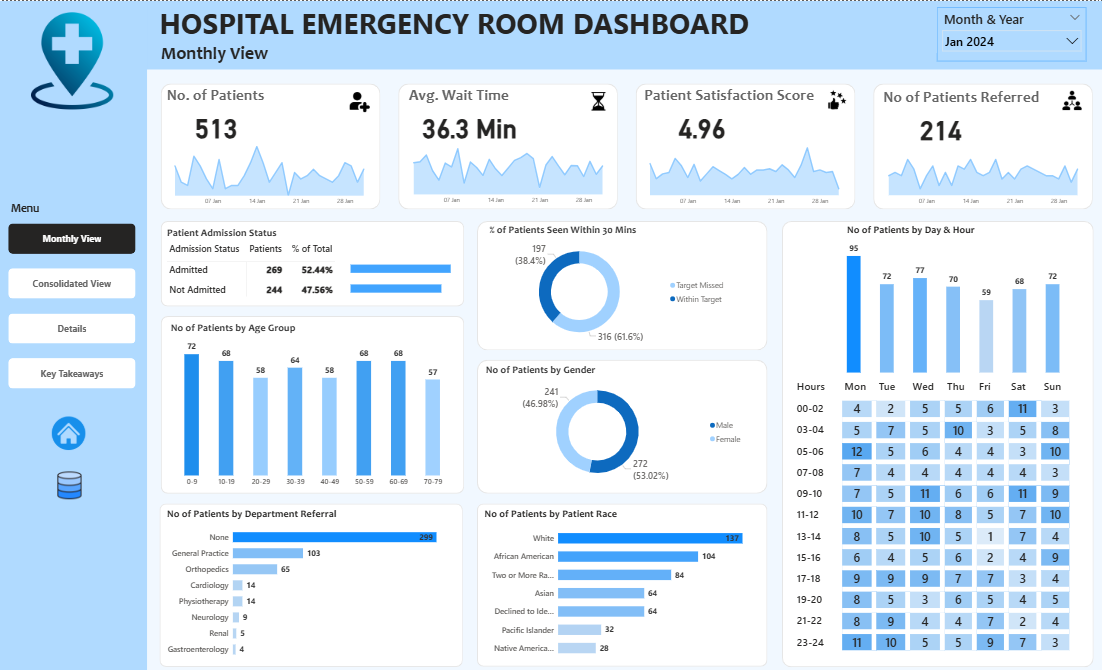

This screenshot's page, from the dashboard's own definition file:
{"tool":"powerbi","page":{"name":"Monthly View","canvas":[2300,1400],"ordinal":0},"visuals":[{"type":"shape","box":[338.5,171.3,455.5,261.2],"z":0},{"type":"shape","box":[1324.7,171.3,455.5,261.2],"z":1000},{"type":"shape","box":[0,0,311.3,1399.9],"z":2000},{"type":"shape","box":[831.6,171.3,455.5,261.2],"z":3000},{"type":"card","fields":{"Values":["Hospital ER_Hospital ER.No of Patients"]},"box":[374,225.7,160.9,66.9],"z":4000},{"type":"card","fields":{"Values":["Hospital ER_Hospital ER.Avg Wait Time"]},"box":[869.2,225.7,223.6,66.9],"z":5000},{"type":"card","fields":{"Values":["Avg(Hospital ER_Hospital ER.Patient Satisfaction Score)"]},"box":[1381.4,225.6,160.9,66.9],"z":6000},{"type":"shape","box":[1817.8,171.3,455.5,261.2],"z":7000},{"type":"card","fields":{"Values":["Hospital ER_Hospital ER.Measure"]},"box":[1876.7,227.6,160.9,66.9],"z":8000},{"type":"shape","box":[311.3,0,1989.1,142.1],"z":9000},{"type":"slicer","fields":{"Values":["Calendar Table.Month & Year"]},"box":[1950.8,12.2,309.8,112.1],"z":10000},{"type":"textbox","box":[339.2,171.3,227.8,56.5],"z":11000},{"type":"textbox","box":[841.3,171.3,231.1,56.5],"z":12000},{"type":"textbox","box":[1331.2,172,377.5,55.8],"z":13000},{"type":"textbox","box":[1828.2,173.4,344.8,56.4],"z":14000},{"type":"areaChart","fields":{"Category":["Calendar Table.Date.Variation.Date Hierarchy.Year","Calendar Table.Date.Variation.Date Hierarchy.Quarter","Calendar Table.Date.Variation.Date Hierarchy.Month","Calendar Table.Date.Variation.Date Hierarchy.Day"],"Y":["Hospital ER_Hospital ER.No of Patients"]},"box":[348.4,288.1,435.5,145.2],"z":15000},{"type":"areaChart","fields":{"Category":["Calendar Table.Date.Variation.Date Hierarchy.Year","Calendar Table.Date.Variation.Date Hierarchy.Quarter","Calendar Table.Date.Variation.Date Hierarchy.Month","Calendar Table.Date.Variation.Date Hierarchy.Day"],"Y":["Avg(Hospital ER_Hospital ER.Patient Waittime)"]},"box":[842.1,285.9,435.5,145.2],"z":16000},{"type":"areaChart","fields":{"Category":["Calendar Table.Date.Variation.Date Hierarchy.Year","Calendar Table.Date.Variation.Date Hierarchy.Quarter","Calendar Table.Date.Variation.Date Hierarchy.Month","Calendar Table.Date.Variation.Date Hierarchy.Day"],"Y":["Avg(Hospital ER_Hospital ER.Patient Satisfaction Score)"]},"box":[1333.4,290.4,435.5,142.9],"z":17000},{"type":"areaChart","fields":{"Category":["Calendar Table.Date.Variation.Date Hierarchy.Year","Calendar Table.Date.Variation.Date Hierarchy.Quarter","Calendar Table.Date.Variation.Date Hierarchy.Month","Calendar Table.Date.Variation.Date Hierarchy.Day"],"Y":["Hospital ER_Hospital ER.Measure"]},"box":[1827.1,288.1,435.5,145.2],"z":18000},{"type":"textbox","box":[331.7,0,1281,88.9],"z":19000},{"type":"image","box":[46.9,17.9,218.9,212.2],"z":20000},{"type":"image","box":[1222.3,183.9,52.2,48.1],"z":21000},{"type":"image","box":[724.8,183.1,52.8,51.2],"z":22000},{"type":"image","box":[2198,181.8,62.7,50],"z":23000},{"type":"image","box":[1713.3,179.7,58.5,52.2],"z":24000},{"type":"shape","box":[338.9,455,629.1,177.3],"z":25000},{"type":"shape","box":[994.7,455,602.5,268.3],"z":26000},{"type":"shape","box":[1626.9,455,646.4,925.6],"z":27000},{"type":"shape","box":[996.2,743.7,602.5,277.7],"z":28000},{"type":"donutChart","title":"% of Patients Seen Within 30 Mins","fields":{"Y":["Hospital ER_Hospital ER.No of Patients"],"Category":["Hospital ER_Hospital ER.Waittime Status"]},"box":[1016.6,461,504.4,257.6],"z":29000},{"type":"donutChart","title":"No of Patients by Gender","fields":{"Y":["Hospital ER_Hospital ER.No of Patients"],"Category":["Hospital ER_Hospital ER.Full Gender"]},"box":[1007.2,753.1,547.5,257.3],"z":30000},{"type":"shape","box":[338.9,652.7,629.1,368.7],"z":31000},{"type":"pivotTable","title":"Patient Admission Status","fields":{"Rows":["Hospital ER_Hospital ER.Admission Status"],"Values":["Hospital ER_Hospital ER.No of Patients1","Hospital ER_Hospital ER.No of Patients"]},"box":[347.9,465.5,610,158.3],"z":32000},{"type":"barChart","fields":{"Category":["Hospital ER_Hospital ER.Admission Status"],"Y":["Hospital ER_Hospital ER.No of Patients"]},"box":[729.5,514.6,241.6,120.8],"z":33000},{"type":"clusteredColumnChart","fields":{"Category":["Hospital ER_Hospital ER.Age Group"],"Y":["Hospital ER_Hospital ER.No of Patients"]},"box":[354.6,662.7,599.3,354.6],"z":34000},{"type":"shape","box":[337.3,1041.7,629.1,338.9],"z":35000},{"type":"clusteredBarChart","fields":{"Category":["Hospital ER_Hospital ER.Department Referral"],"Y":["Hospital ER_Hospital ER.No of Patients"]},"box":[348.3,1049.6,602.5,324.8],"z":36000},{"type":"shape","box":[996.5,1043,602.2,338.4],"z":37000},{"type":"clusteredBarChart","fields":{"Y":["Hospital ER_Hospital ER.No of Patients"],"Category":["Hospital ER_Hospital ER.Patient Race"]},"box":[1005.8,1049.2,578.9,324.4],"z":38000},{"type":"pivotTable","fields":{"Columns":["Calendar Table.Day Name"],"Rows":["Hospital ER_Hospital ER.Waittime Interval"],"Values":["Hospital ER_Hospital ER.No of Patients"]},"box":[1649.4,776.5,606.9,583.6],"z":39000},{"type":"clusteredColumnChart","title":"No of Patients by Day & Hour","fields":{"Category":["Calendar Table.Day Name"],"Y":["Hospital ER_Hospital ER.No of Patients"]},"box":[1758.7,461.3,453.4,315.3],"z":40000},{"type":"textbox","box":[333.7,79.2,411.3,59],"z":41000},{"type":"pageNavigator","box":[24.2,462.3,264.1,343.1],"z":42000},{"type":"textbox","box":[24.2,409.1,99.9,48.3],"z":43000},{"type":"image","box":[116.7,967,67.4,75.2],"z":47001},{"type":"image","box":[110.1,854.1,79.5,87.7],"z":47002}]}

Visuals, with their boxes in screenshot pixels (x1, y1, x2, y2), scaled from the page's 2300x1400 canvas onto the 1102x670 screenshot:
shape: <bbox>162, 82, 380, 207</bbox>
shape: <bbox>635, 82, 853, 207</bbox>
shape: <bbox>0, 0, 149, 669</bbox>
shape: <bbox>398, 82, 617, 207</bbox>
card - Hospital ER_Hospital ER.No of Patients: <bbox>179, 108, 256, 140</bbox>
card - Hospital ER_Hospital ER.Avg Wait Time: <bbox>416, 108, 524, 140</bbox>
card - Avg(Hospital ER_Hospital ER.Patient Satisfaction Score): <bbox>662, 108, 739, 140</bbox>
shape: <bbox>871, 82, 1089, 207</bbox>
card - Hospital ER_Hospital ER.Measure: <bbox>899, 109, 976, 141</bbox>
shape: <bbox>149, 0, 1101, 68</bbox>
slicer - Calendar Table.Month & Year: <bbox>935, 6, 1083, 59</bbox>
textbox: <bbox>163, 82, 272, 109</bbox>
textbox: <bbox>403, 82, 514, 109</bbox>
textbox: <bbox>638, 82, 819, 109</bbox>
textbox: <bbox>876, 83, 1041, 110</bbox>
areaChart - Calendar Table.Date.Variation.Date Hierarchy.Year x Calendar Table.Date.Variation.Date Hierarchy.Quarter: <bbox>167, 138, 376, 207</bbox>
areaChart - Calendar Table.Date.Variation.Date Hierarchy.Year x Calendar Table.Date.Variation.Date Hierarchy.Quarter: <bbox>403, 137, 612, 206</bbox>
areaChart - Calendar Table.Date.Variation.Date Hierarchy.Year x Calendar Table.Date.Variation.Date Hierarchy.Quarter: <bbox>639, 139, 848, 207</bbox>
areaChart - Calendar Table.Date.Variation.Date Hierarchy.Year x Calendar Table.Date.Variation.Date Hierarchy.Quarter: <bbox>875, 138, 1084, 207</bbox>
textbox: <bbox>159, 0, 773, 43</bbox>
image: <bbox>22, 9, 127, 110</bbox>
image: <bbox>586, 88, 611, 111</bbox>
image: <bbox>347, 88, 373, 112</bbox>
image: <bbox>1053, 87, 1083, 111</bbox>
image: <bbox>821, 86, 849, 111</bbox>
shape: <bbox>162, 218, 464, 303</bbox>
shape: <bbox>477, 218, 765, 346</bbox>
shape: <bbox>779, 218, 1089, 661</bbox>
shape: <bbox>477, 356, 766, 489</bbox>
"% of Patients Seen Within 30 Mins" donutChart: <bbox>487, 221, 729, 344</bbox>
"No of Patients by Gender" donutChart: <bbox>483, 360, 745, 484</bbox>
shape: <bbox>162, 312, 464, 489</bbox>
"Patient Admission Status" pivotTable: <bbox>167, 223, 459, 299</bbox>
barChart - Hospital ER_Hospital ER.Admission Status x Hospital ER_Hospital ER.No of Patients: <bbox>350, 246, 465, 304</bbox>
clusteredColumnChart - Hospital ER_Hospital ER.Age Group x Hospital ER_Hospital ER.No of Patients: <bbox>170, 317, 457, 487</bbox>
shape: <bbox>162, 499, 463, 661</bbox>
clusteredBarChart - Hospital ER_Hospital ER.Department Referral x Hospital ER_Hospital ER.No of Patients: <bbox>167, 502, 456, 658</bbox>
shape: <bbox>477, 499, 766, 661</bbox>
clusteredBarChart - Hospital ER_Hospital ER.No of Patients x Hospital ER_Hospital ER.Patient Race: <bbox>482, 502, 759, 657</bbox>
pivotTable - Calendar Table.Day Name x Hospital ER_Hospital ER.Waittime Interval: <bbox>790, 372, 1081, 651</bbox>
"No of Patients by Day & Hour" clusteredColumnChart: <bbox>843, 221, 1060, 372</bbox>
textbox: <bbox>160, 38, 357, 66</bbox>
pageNavigator: <bbox>12, 221, 138, 385</bbox>
textbox: <bbox>12, 196, 59, 219</bbox>
image: <bbox>56, 463, 88, 499</bbox>
image: <bbox>53, 409, 91, 451</bbox>
